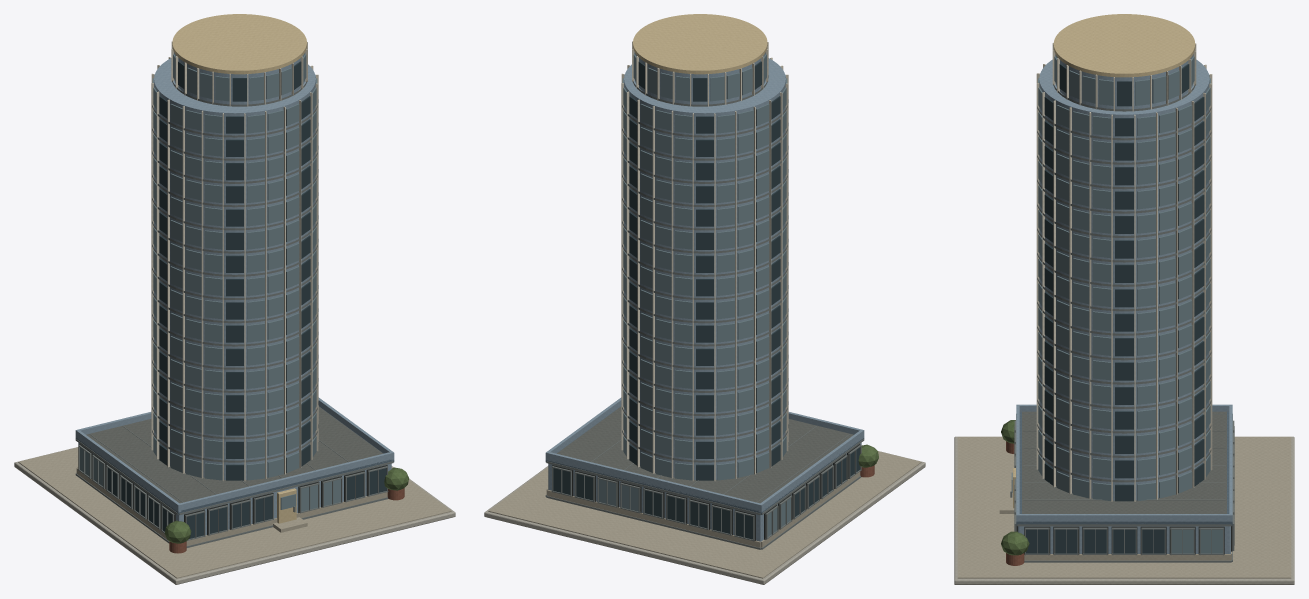
File: EXP_TOWER_ROUND.glb
The picture shows the model from 3 angles, left to right: view 1: azimuth 30°, elevation 25°; view 2: azimuth 150°, elevation 25°; view 3: azimuth 270°, elevation 25°; orthographic projection. The views are drawn at different scales.
Parts seen in each view (by area): view 1: EXP_TOWER_ROUND_Visual; view 2: EXP_TOWER_ROUND_Visual; view 3: EXP_TOWER_ROUND_Visual.
Boxes of the visible parts, bbox=[...] form: EXP_TOWER_ROUND_Visual: bbox=[14, 14, 455, 584]; EXP_TOWER_ROUND_Visual: bbox=[484, 14, 925, 584]; EXP_TOWER_ROUND_Visual: bbox=[954, 14, 1294, 584].
Size of what is drawn, in the model's own units: 5.92 by 9.06 by 5.92.
Materials: 13 (9 with a texture image).
